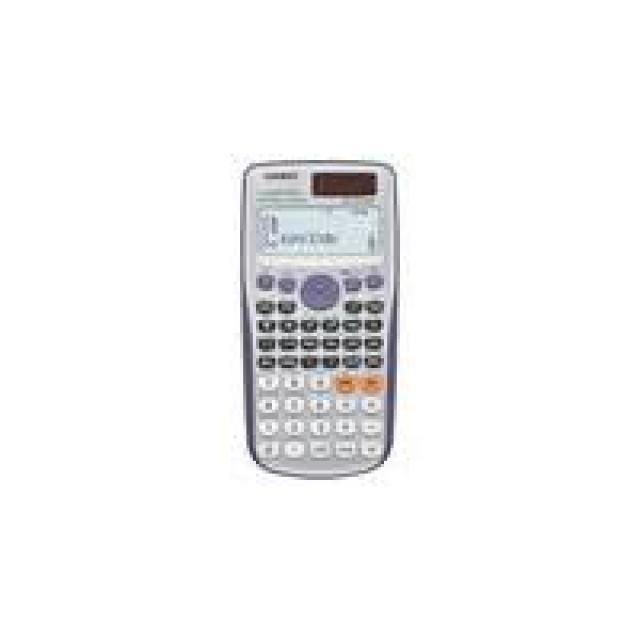Calculator: (207, 158, 418, 527)
